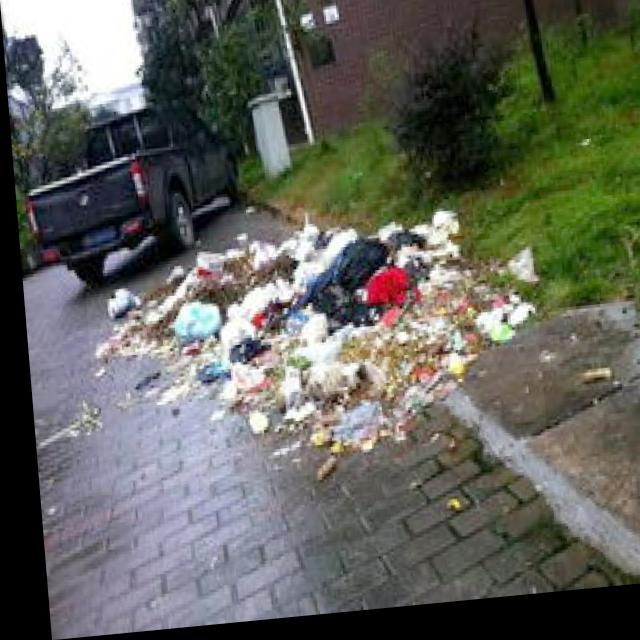garbage: (76, 196, 540, 497)
